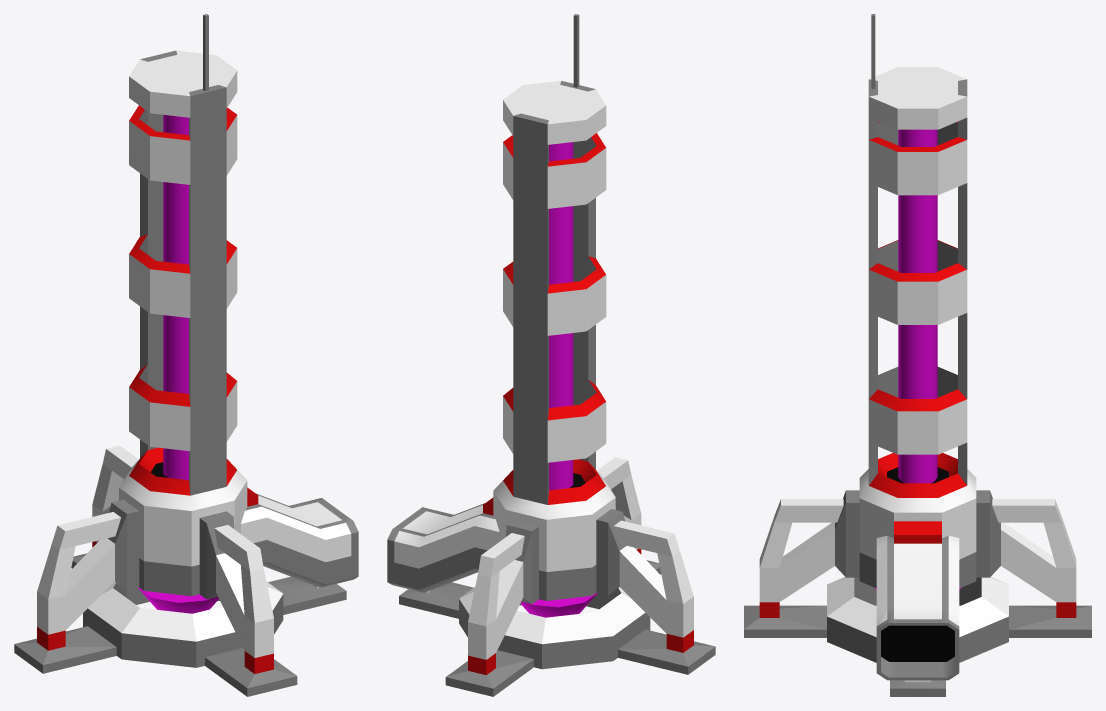
The model's file is Drill_1.fbx.
3 views of the same model, side by side, from view 1: azimuth 30°, elevation 25°; view 2: azimuth 150°, elevation 25°; view 3: azimuth 270°, elevation 25° (orthographic). The views are drawn at different scales.
Parts seen in each view (by area): view 1: Base, paw.002, paw.001, Hole, Cylinder.001, paw.003; view 2: Base, paw.002, paw.003, Hole, Cylinder.001, paw.001; view 3: Base, paw.001, paw.003, Cylinder.001, Hole.
Boxes of the visible parts, x1,y1,x2,y2 form: Base: [119, 14, 358, 614]; paw.002: [14, 499, 139, 673]; paw.001: [199, 511, 297, 696]; Hole: [83, 581, 283, 667]; Cylinder.001: [138, 114, 218, 613]; paw.003: [71, 445, 138, 568]; Base: [387, 14, 615, 618]; paw.002: [596, 509, 715, 674]; paw.003: [445, 520, 538, 696]; Hole: [459, 587, 650, 669]; Cylinder.001: [520, 142, 597, 617]; paw.001: [597, 457, 661, 574]; Base: [859, 14, 976, 696]; paw.001: [744, 490, 859, 637]; paw.003: [976, 490, 1091, 637]; Cylinder.001: [875, 129, 960, 589]; Hole: [827, 577, 1008, 662].
Size of the model in its own units: 1059 by 2099 by 1059.
